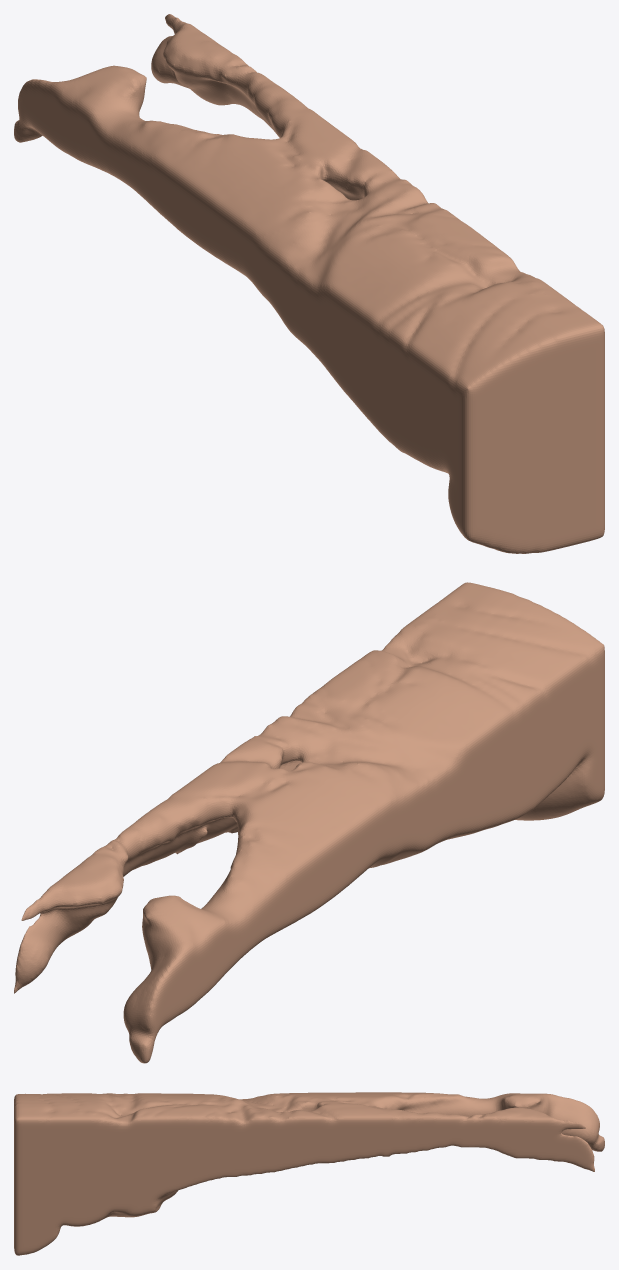
The model's file is totalhipreplacement_skin.glb.
3 renders of one model, top to bottom at view 1: azimuth 30°, elevation 25°; view 2: azimuth 150°, elevation 25°; view 3: azimuth 270°, elevation 25°, orthographic. The views are drawn at different scales.
Visible parts, largest first — view 1: geometry_0; view 2: geometry_0; view 3: geometry_0.
Part boxes in pixels (x1=…): geometry_0: x1=14, y1=14, x2=604, y2=553; geometry_0: x1=14, y1=582, x2=604, y2=1063; geometry_0: x1=14, y1=1092, x2=604, y2=1255.
Size of the model in its own units: 186 by 273 by 1037.
